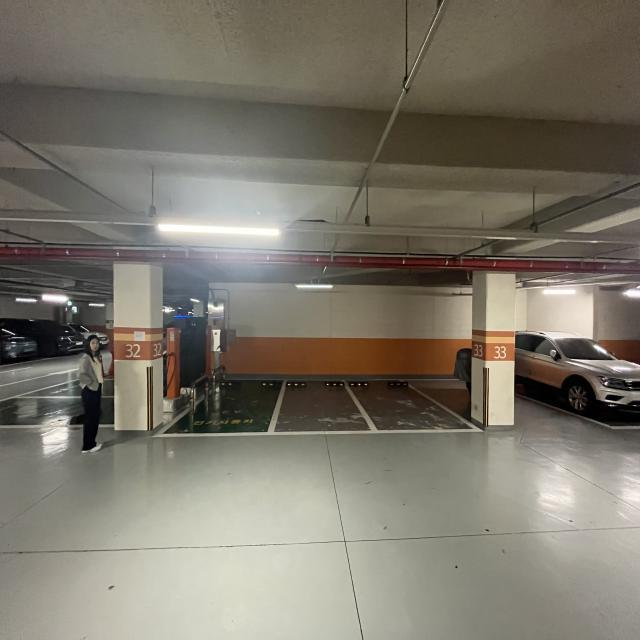empty: (156, 375, 268, 435), (266, 378, 370, 432), (364, 377, 452, 434)
